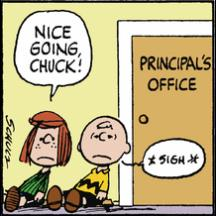charlie: (43, 114, 132, 214)
